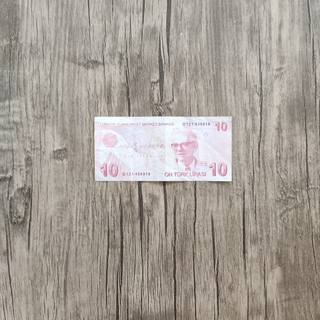10TLBack: (94, 115, 232, 182)
